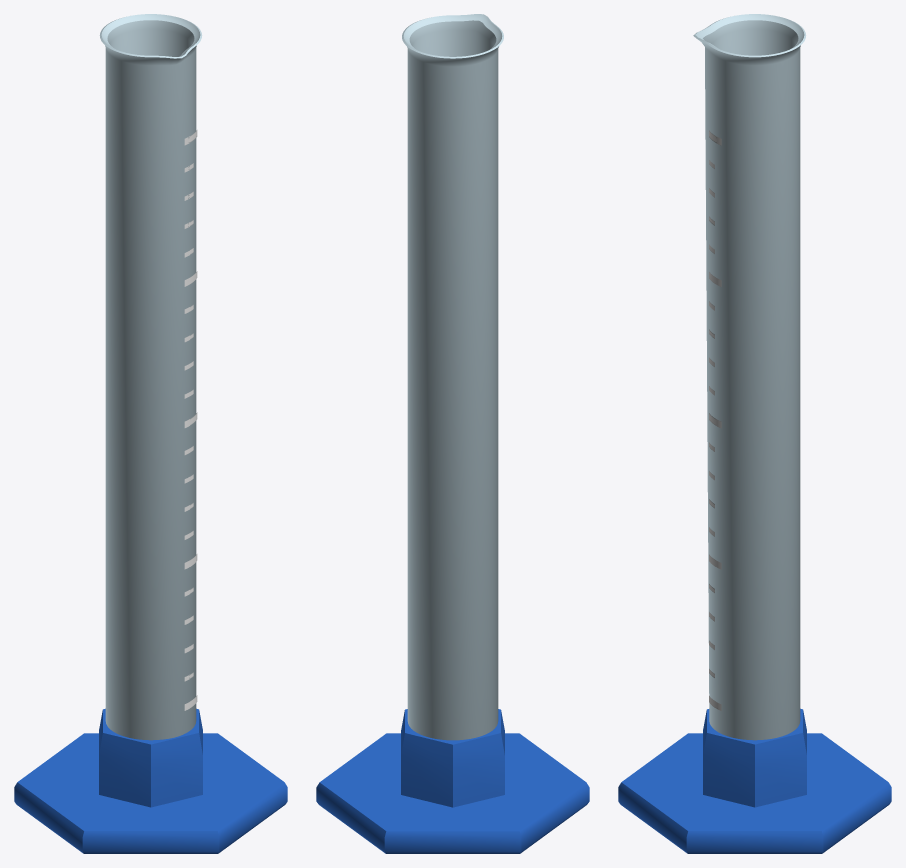
The model's file is graduated-cylinder.glb.
3 renders of one model, left to right at view 1: azimuth 30°, elevation 25°; view 2: azimuth 150°, elevation 25°; view 3: azimuth 270°, elevation 25°, orthographic.
Visible parts, largest first — view 1: Graduated_Cylinder; view 2: Graduated_Cylinder; view 3: Graduated_Cylinder.
Part boxes in pixels (<box>): Graduated_Cylinder: <box>14,14,287,853</box>; Graduated_Cylinder: <box>316,14,589,853</box>; Graduated_Cylinder: <box>618,14,891,853</box>.
Size of the model in its own units: 0.0759 by 0.2721 by 0.0876.
4 materials, 1 textured.
